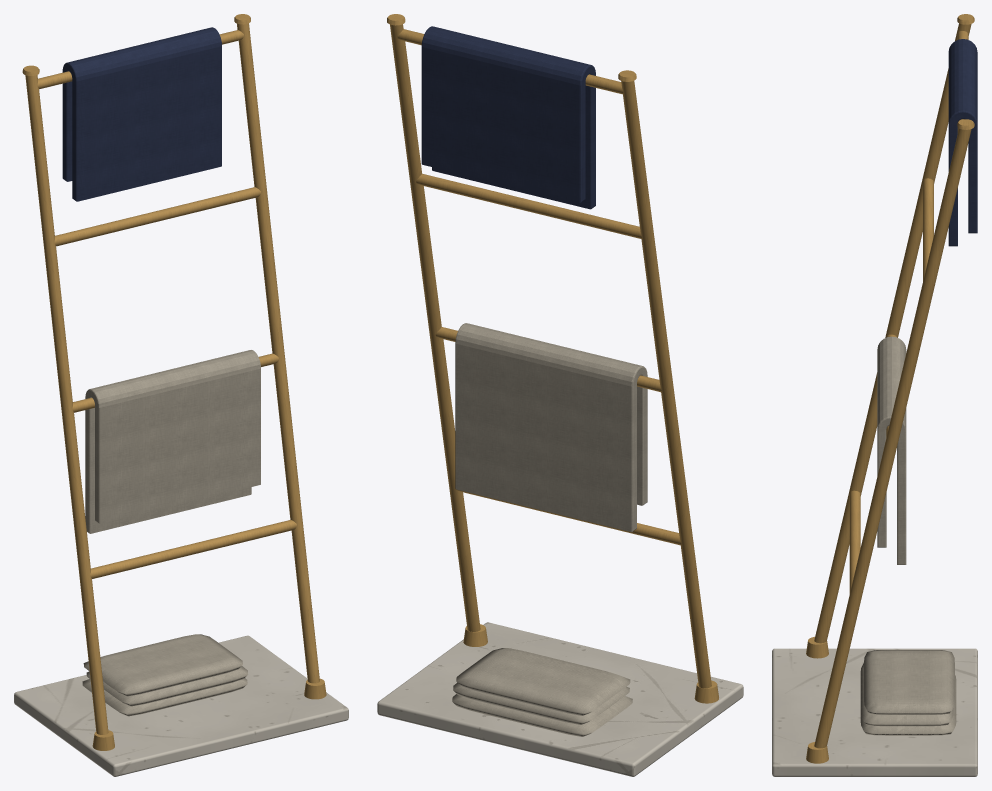
Rendered from towel_rack.glb.
3 views of the same model, side by side, from view 1: azimuth 30°, elevation 25°; view 2: azimuth 150°, elevation 25°; view 3: azimuth 270°, elevation 25° (orthographic). The views are drawn at different scales.
Parts seen in each view (by area): view 1: part_towel_1_LOD0, part_frame_LOD0, part_towel_2_LOD0, part_base_LOD0, part_towel_3_LOD0; view 2: part_towel_1_LOD0, part_towel_2_LOD0, part_frame_LOD0, part_base_LOD0, part_towel_3_LOD0; view 3: part_frame_LOD0, part_base_LOD0, part_towel_3_LOD0, part_towel_2_LOD0, part_towel_1_LOD0.
Boxes of the visible parts, x1=… form: part_towel_1_LOD0: x1=85, y1=350, x2=260, y2=533; part_frame_LOD0: x1=22, y1=14, x2=326, y2=750; part_towel_2_LOD0: x1=62, y1=27, x2=221, y2=201; part_base_LOD0: x1=14, y1=635, x2=348, y2=776; part_towel_3_LOD0: x1=82, y1=634, x2=248, y2=716; part_towel_1_LOD0: x1=455, y1=323, x2=647, y2=531; part_towel_2_LOD0: x1=421, y1=26, x2=595, y2=209; part_frame_LOD0: x1=387, y1=14, x2=718, y2=703; part_base_LOD0: x1=377, y1=622, x2=743, y2=776; part_towel_3_LOD0: x1=452, y1=648, x2=632, y2=736; part_frame_LOD0: x1=806, y1=14, x2=974, y2=763; part_base_LOD0: x1=772, y1=648, x2=977, y2=776; part_towel_3_LOD0: x1=860, y1=650, x2=956, y2=735; part_towel_2_LOD0: x1=948, y1=39, x2=977, y2=246; part_towel_1_LOD0: x1=877, y1=336, x2=906, y2=564.
Size of what is drawn, in the model's own units: 0.58 by 1.5 by 0.43.
5 materials, 5 textured.
